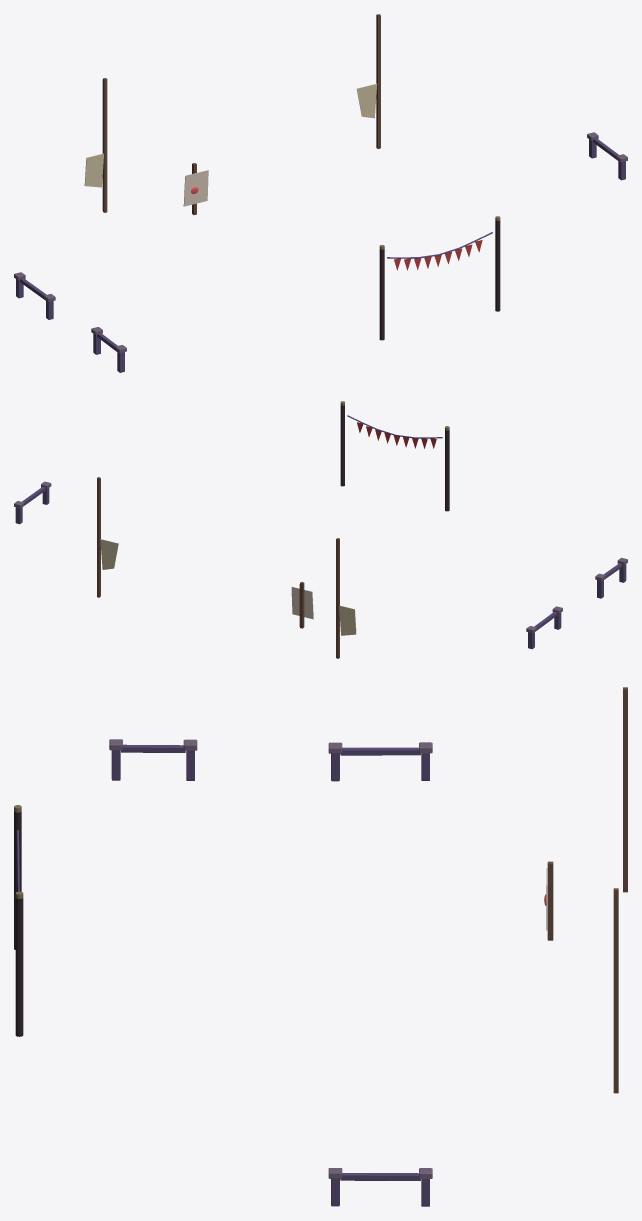
File: structures.fbx
The picture shows the model from 3 angles, top to bottom: view 1: azimuth 30°, elevation 25°; view 2: azimuth 150°, elevation 25°; view 3: azimuth 270°, elevation 25°; orthographic projection. The views are drawn at different scales.
Parts seen in each view (by area): view 1: BANNER_02_banner_l_pole, SIGN_board, BANNER_03_banner_r_pole, BANNER_02_banner_l_cloth, BANNER_03_banner_r_cloth, BUNTING_post0, BUNTING_post1; view 2: SIGN_board, BANNER_02_banner_l_pole, BANNER_03_banner_r_pole, BANNER_02_banner_l_cloth, BANNER_03_banner_r_cloth, BUNTING_post0, BUNTING_post1; view 3: BUNTING_post1, BANNER_03_banner_r_pole, BANNER_02_banner_l_pole, FENCE_30_fence_w_rail.
Part boxes in pixels (x1,y1,x2,y2): BANNER_02_banner_l_pole: [102, 78, 107, 212]; SIGN_board: [183, 170, 208, 206]; BANNER_03_banner_r_pole: [376, 14, 380, 148]; BANNER_02_banner_l_cloth: [84, 153, 103, 187]; BANNER_03_banner_r_cloth: [356, 83, 377, 118]; BUNTING_post0: [379, 249, 384, 340]; BUNTING_post1: [495, 220, 500, 311]; SIGN_board: [291, 586, 313, 619]; BANNER_02_banner_l_pole: [336, 538, 339, 658]; BANNER_03_banner_r_pole: [97, 477, 100, 597]; BANNER_02_banner_l_cloth: [339, 605, 356, 635]; BANNER_03_banner_r_cloth: [100, 539, 118, 569]; BUNTING_post0: [445, 430, 449, 511]; BUNTING_post1: [340, 405, 344, 486]; BUNTING_post1: [15, 898, 23, 1036]; BANNER_03_banner_r_pole: [613, 888, 618, 1093]; BANNER_02_banner_l_pole: [623, 687, 627, 892]; FENCE_30_fence_w_rail: [340, 747, 420, 755].
Bounding box in the file's own units: 6385 × 1400 × 3838.
